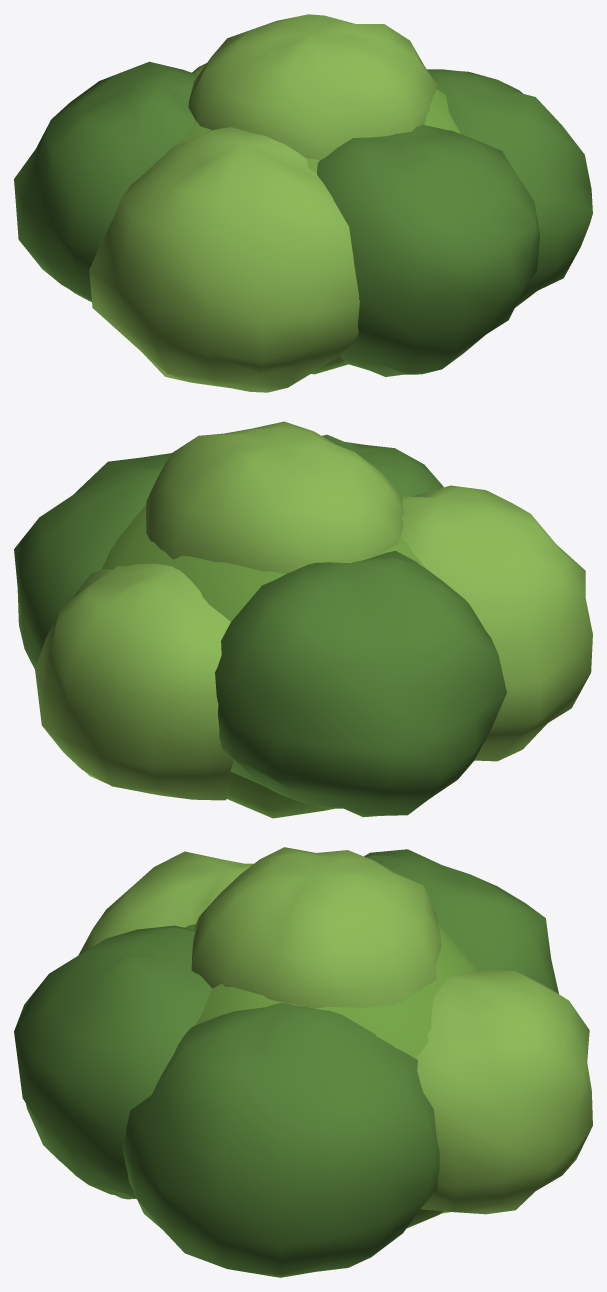
The model's file is bush.glb.
3 views of the same model, one above another, from view 1: azimuth 30°, elevation 25°; view 2: azimuth 150°, elevation 25°; view 3: azimuth 270°, elevation 25° (orthographic). The views are drawn at different scales.
Parts seen in each view (by area): view 1: bush; view 2: bush; view 3: bush.
Part boxes in pixels (x1,y1,x2,y2): bush: (14,14,592,392); bush: (14,421,592,818); bush: (14,847,592,1277).
Size of the model in its own units: 1.1 by 0.6928 by 1.03.
